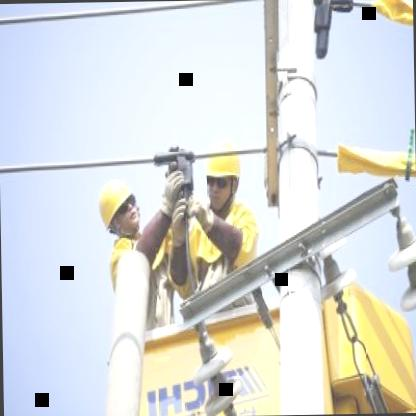helmet: (200, 129, 245, 212), (93, 173, 146, 241)
